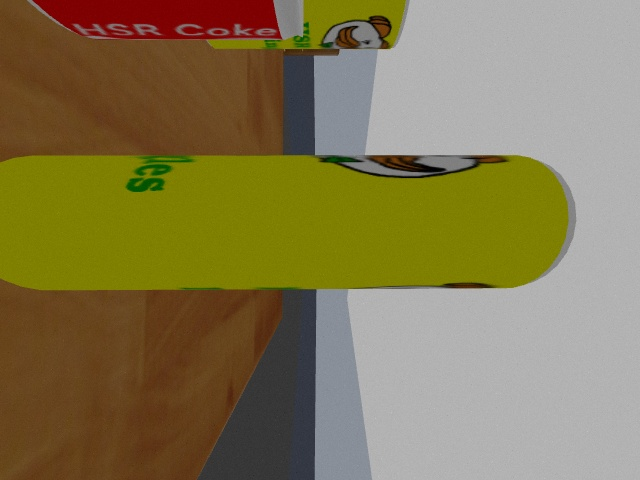chipsdose_gelb: (1, 155, 577, 290), (206, 1, 409, 50)
